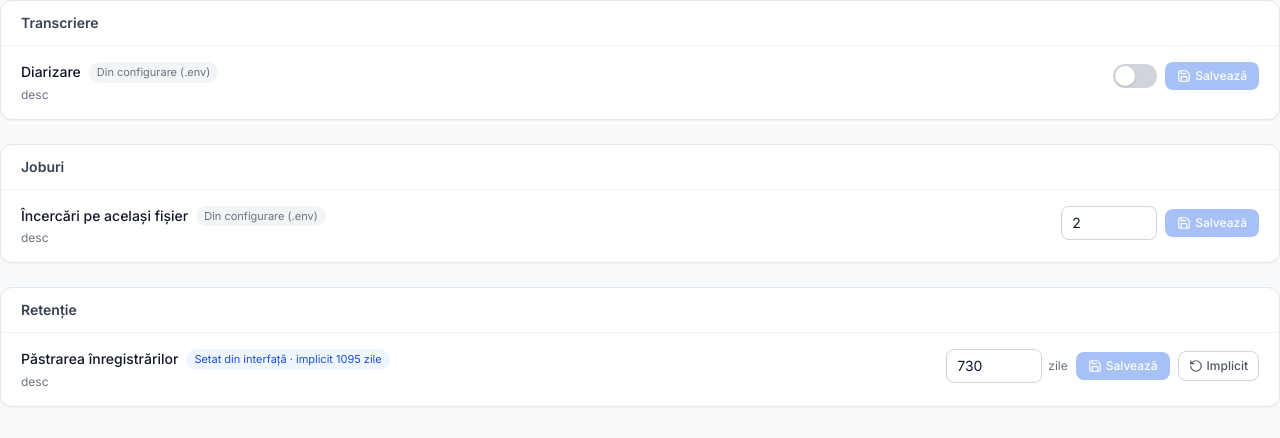
Test: SettingsPanel › valoarea în afara limitelor nu poate fi salvată
Clear the field labelled "Încercări pe același fișier" at (1109, 222), box [1061,206,1157,240]
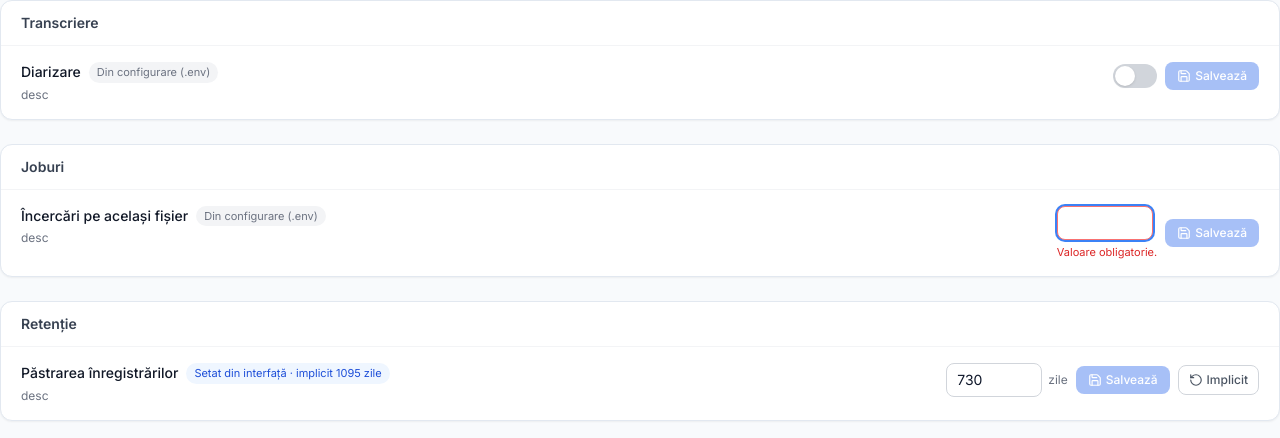
Type "9" into the field labelled "Încercări pe același fișier" at (1105, 222), box [1057,206,1153,240]
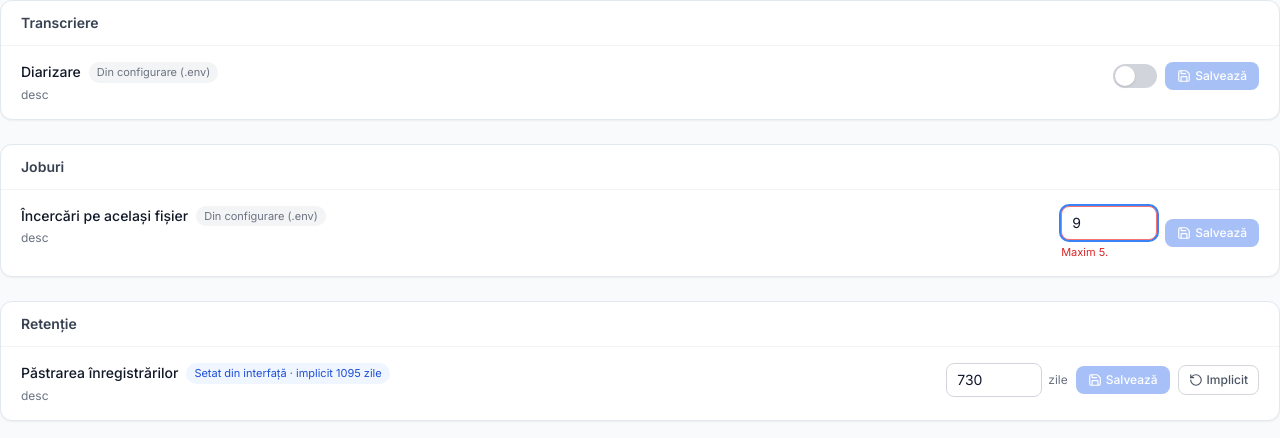
expect the button "Salvează" next to "Maxim 5." is disabled: met, box [1165,219,1259,247]
expect the text "Maxim 5." is shown: met, box [1061,244,1108,258]
